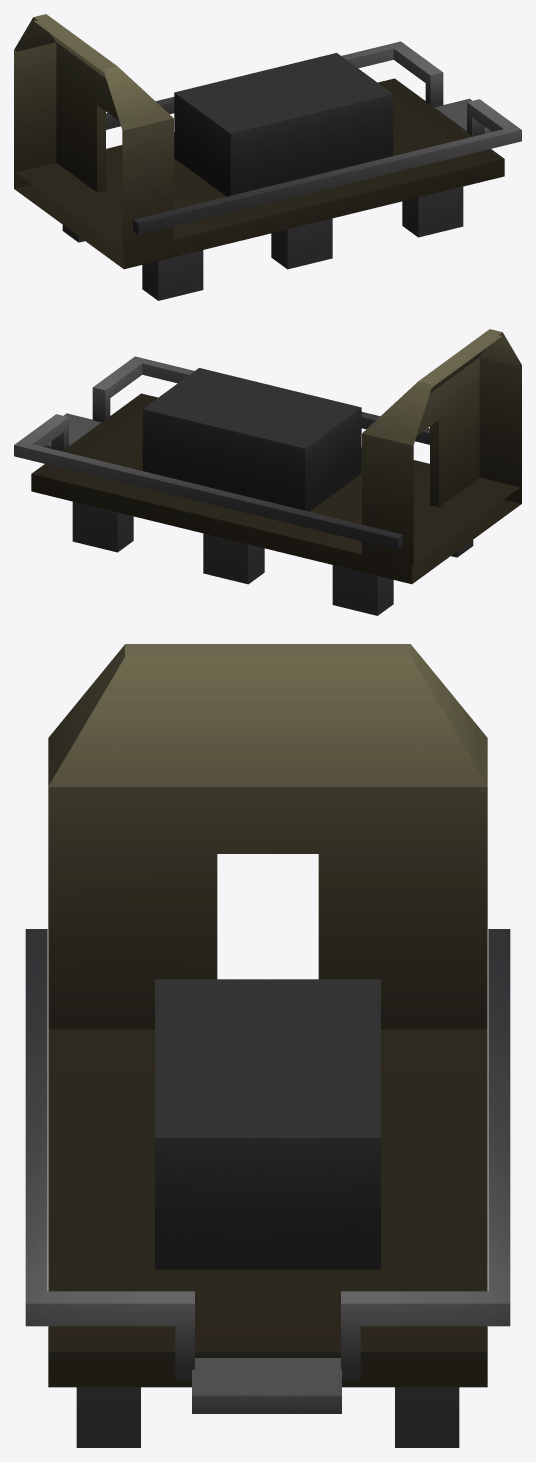
File: train_half_heavy_gun_base_placeholder_v001.fbx
The picture shows the model from 3 angles, top to bottom: view 1: azimuth 30°, elevation 25°; view 2: azimuth 150°, elevation 25°; view 3: azimuth 270°, elevation 25°; orthographic projection. The views are drawn at different scales.
Parts seen in each view (by area): view 1: body heavy weapon.001, übergang; view 2: body heavy weapon.001, übergang; view 3: body heavy weapon.001, übergang.
Part boxes in pixels (x1,y1,x2,y2): body heavy weapon.001: [14, 14, 521, 300]; übergang: [435, 98, 491, 133]; body heavy weapon.001: [14, 329, 521, 615]; übergang: [44, 413, 100, 448]; body heavy weapon.001: [25, 644, 510, 1447]; übergang: [192, 1358, 341, 1413].
Bounding box in the file's own units: 331 × 351 × 661.
